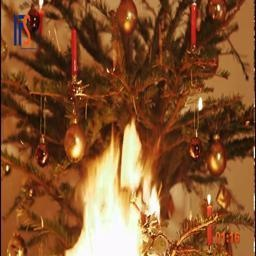fire: (56, 119, 169, 256)
